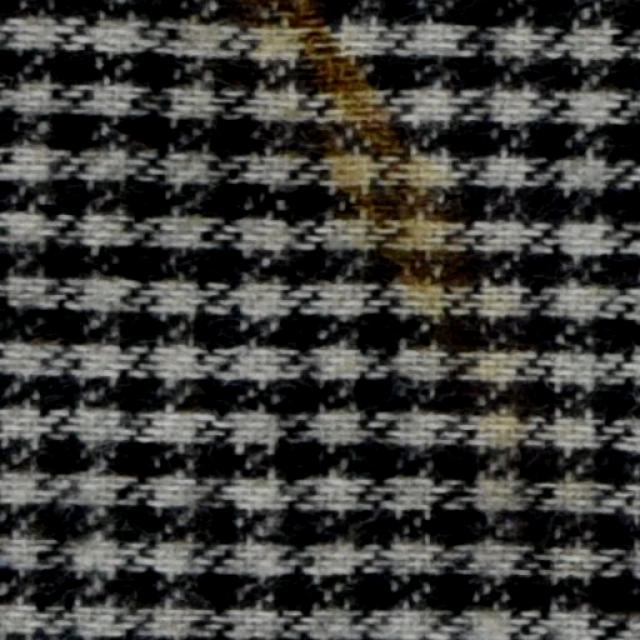Stain: (249, 1, 470, 347)
